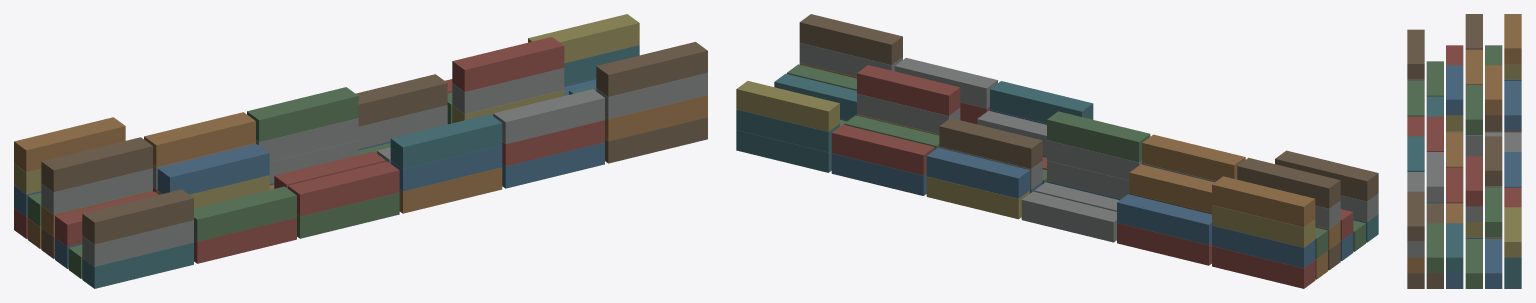
File: container_stack_7.glb
The picture shows the model from 3 angles, left to right: view 1: azimuth 30°, elevation 25°; view 2: azimuth 150°, elevation 25°; view 3: azimuth 270°, elevation 25°; orthographic projection. The views are drawn at different scales.
Visible parts, largest first — view 1: LOD0; view 2: LOD0; view 3: LOD0.
Boxes of the visible parts, x1=… form: LOD0: x1=14, y1=14, x2=707, y2=288; LOD0: x1=736, y1=14, x2=1378, y2=288; LOD0: x1=1407, y1=14, x2=1521, y2=288.
Size of what is drawn, in the model's own units: 75.2 by 10.38 by 17.1.
